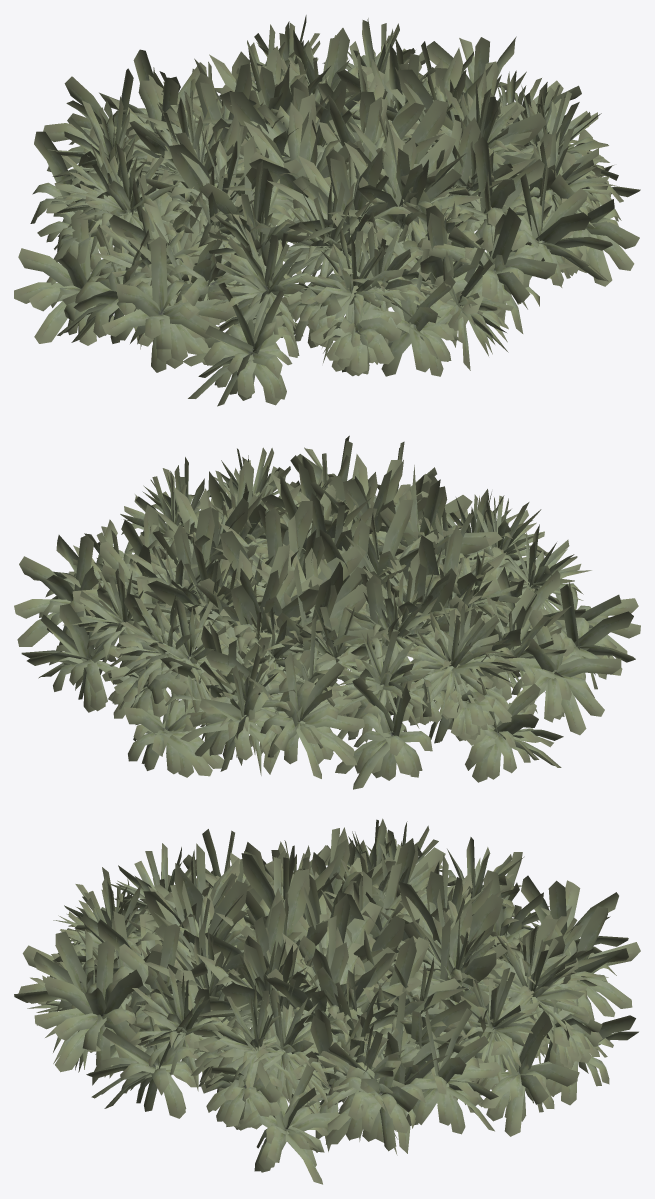
File: MESH_AF08_DracaenaDraco_A_LOD1.fbx
3 renders of one model, top to bottom at view 1: azimuth 30°, elevation 25°; view 2: azimuth 150°, elevation 25°; view 3: azimuth 270°, elevation 25°, orthographic. The views are drawn at different scales.
Parts seen in each view (by area): view 1: MI_LOD1_001; view 2: MI_LOD1_001; view 3: MI_LOD1_001.
Boxes of the visible parts, <box> form: MI_LOD1_001: <box>14,15,640,406</box>; MI_LOD1_001: <box>14,435,640,789</box>; MI_LOD1_001: <box>14,818,640,1184</box>.
Size of what is drawn, in the model's own units: 1125 by 398 by 1083.
